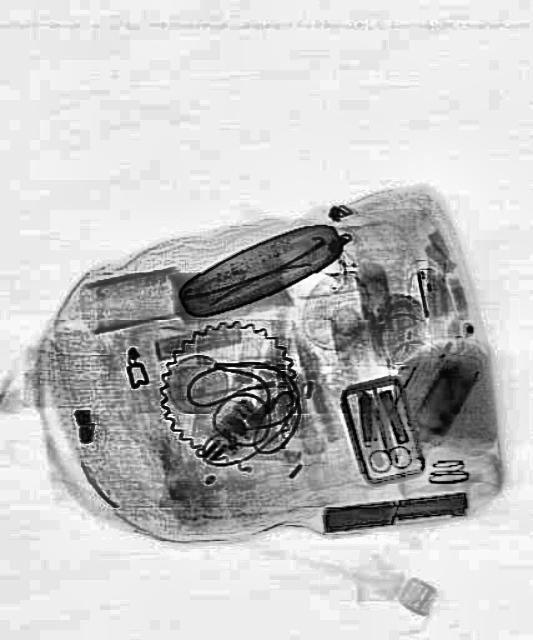Scissors: (356, 401, 412, 475)
